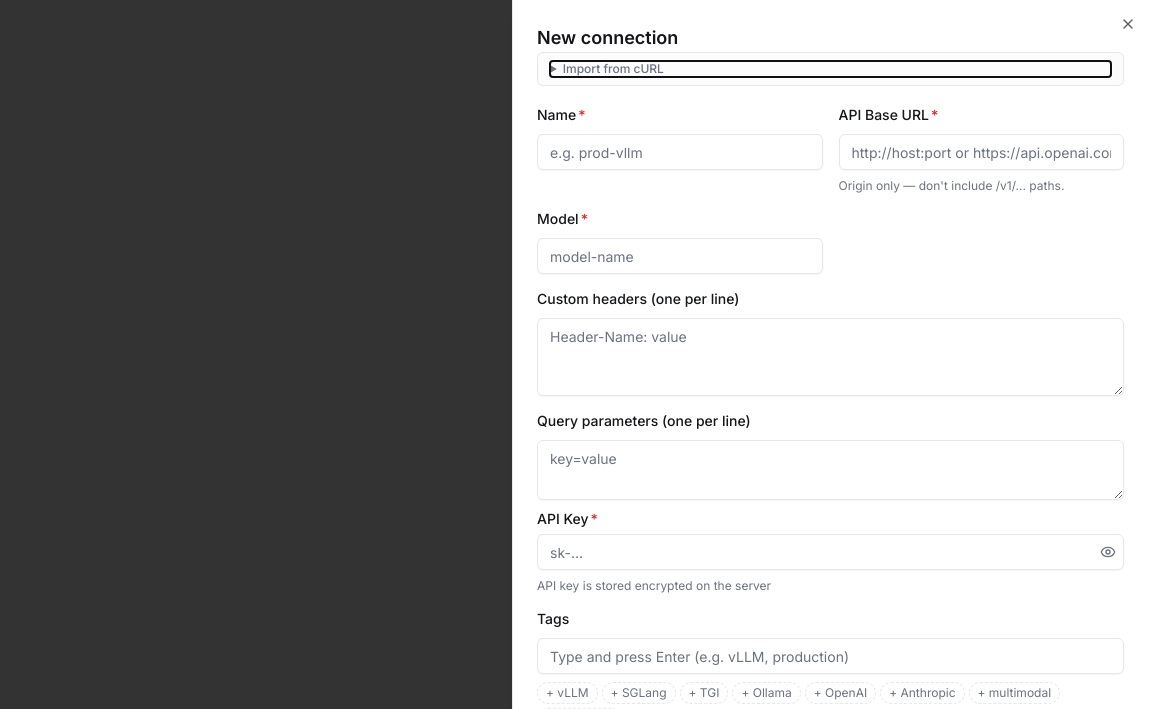
Test case: ConnectionSheet — Discover region › shows generic error banner on other failures
Type "http://x.test" into the field labelled "API Base URL*" at {"x": 981, "y": 152}, box [838,134,1124,170]
(page scrolled)
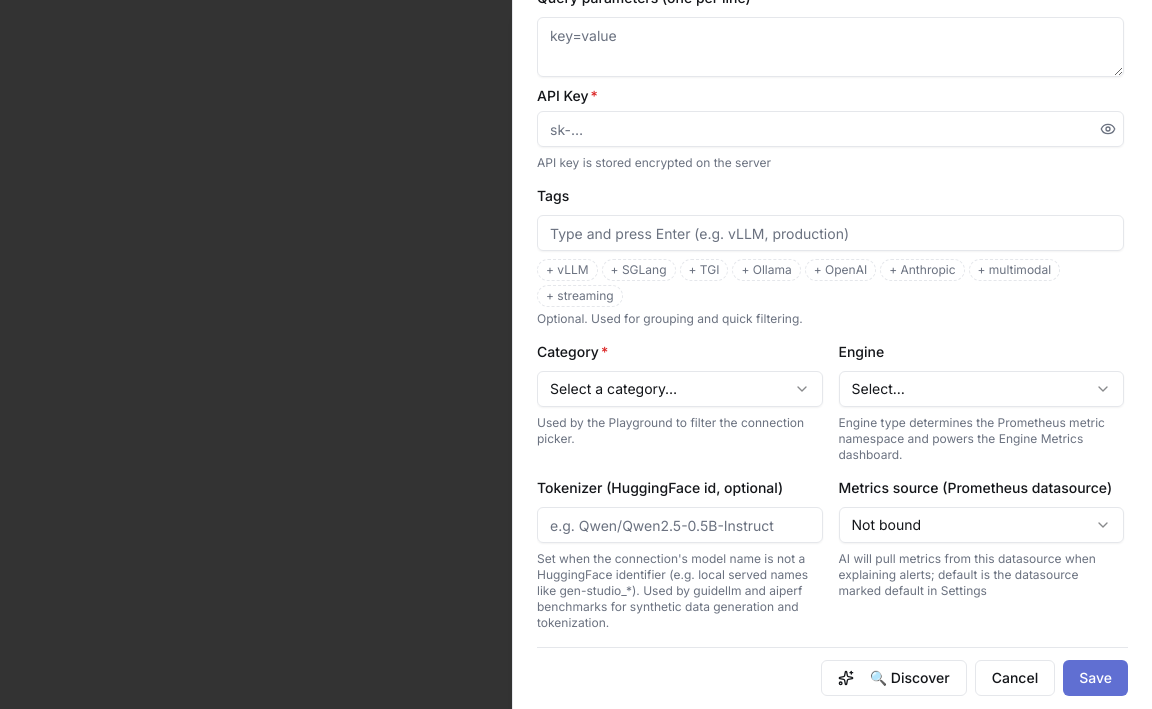
Click the button "🔍 Discover" at {"x": 894, "y": 678}, box [821,660,967,696]
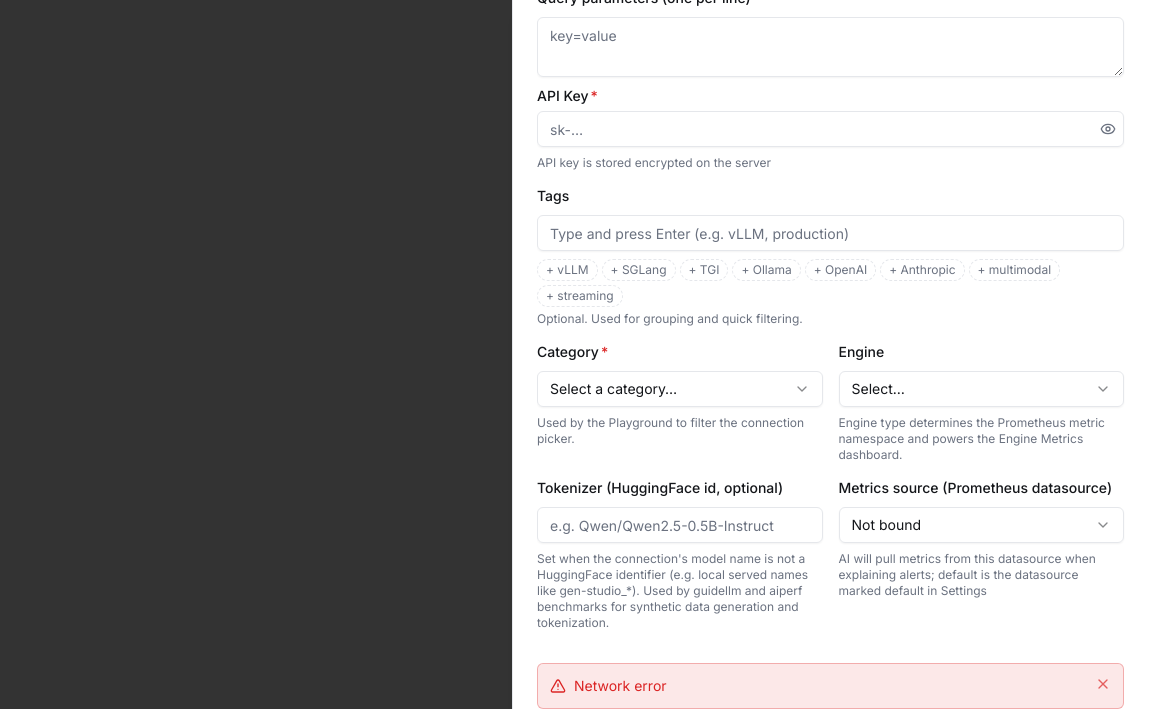
Now the text "Network error" is shown, box [574,677,667,694]
